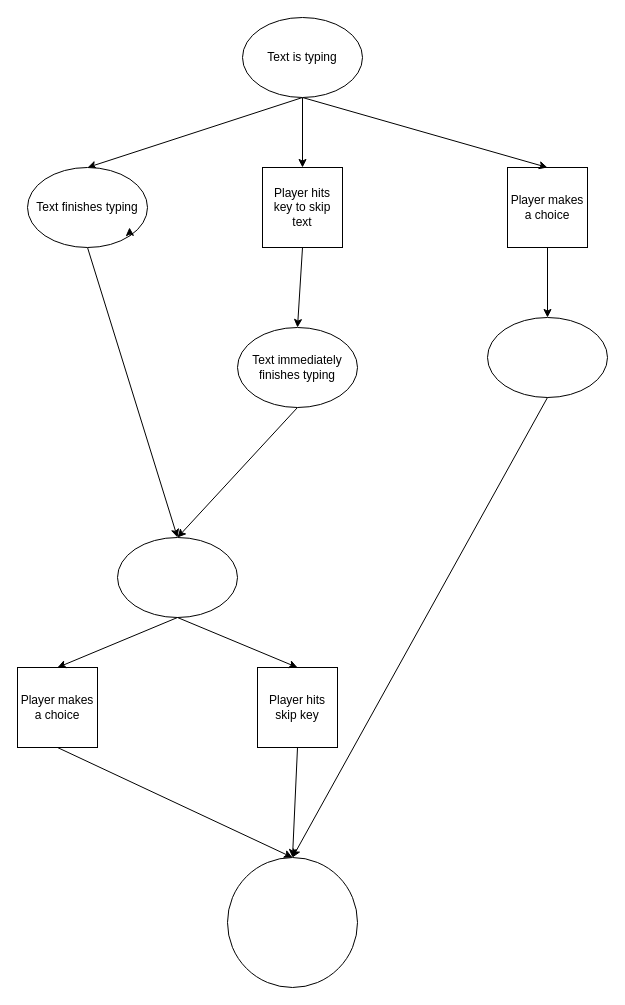
This 625x1005 diagram has some shape labels left out. Each missing label, with the box of its shape:
Next text begins typing: (226, 856, 358, 988)
Text holds: (116, 536, 238, 618)
Text is bypassed: (486, 316, 608, 398)
